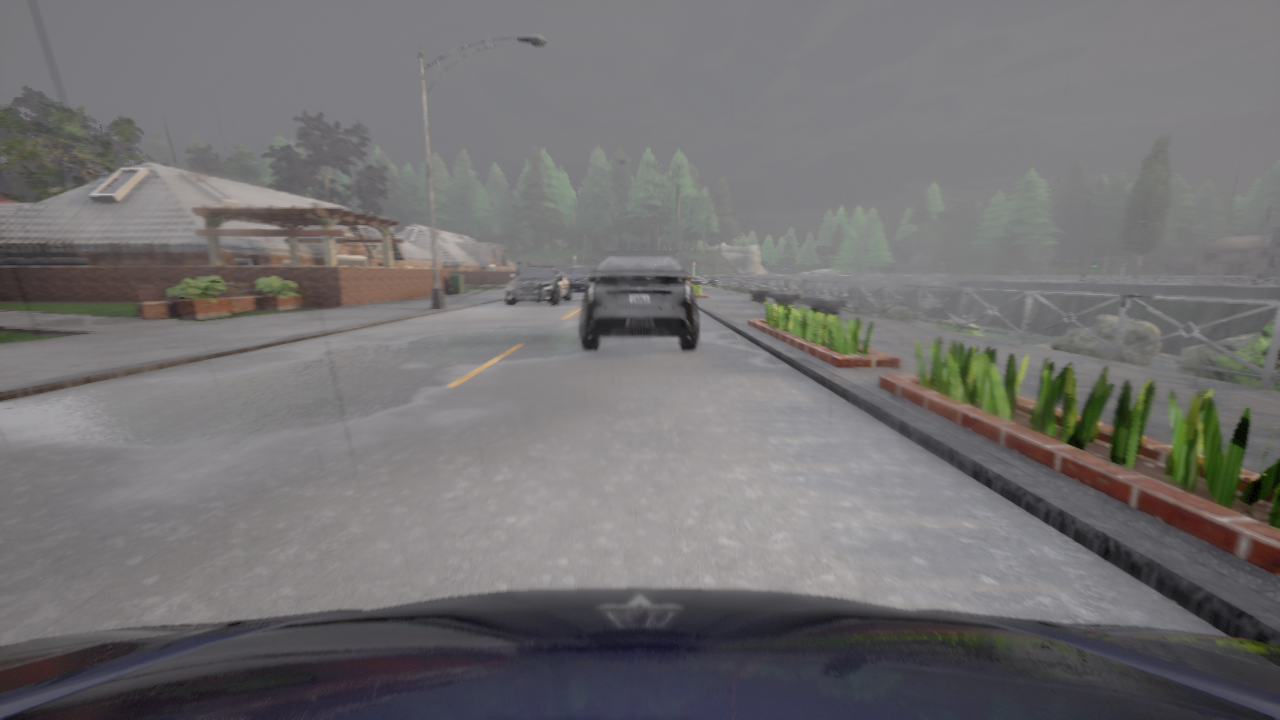cyclist: (0, 588, 1279, 719), (580, 255, 699, 350), (505, 265, 571, 305), (561, 266, 593, 291), (592, 266, 596, 269)
pedestrian: (517, 261, 521, 274), (527, 261, 530, 267)
